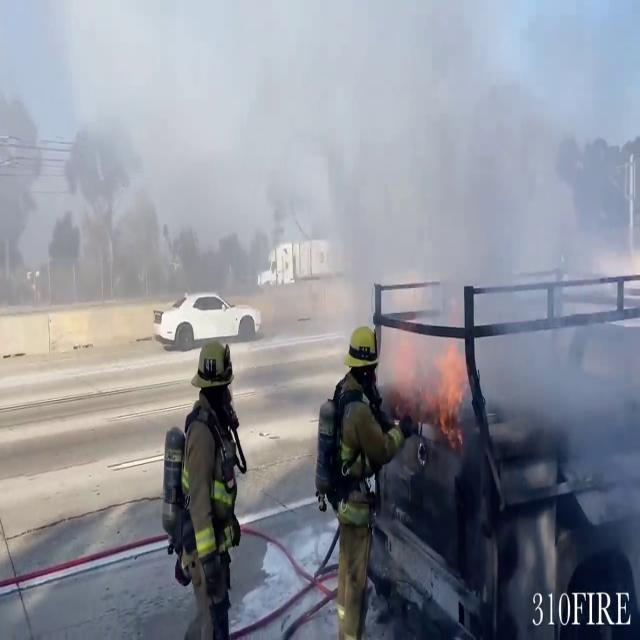Smoke: (6, 0, 638, 380)
